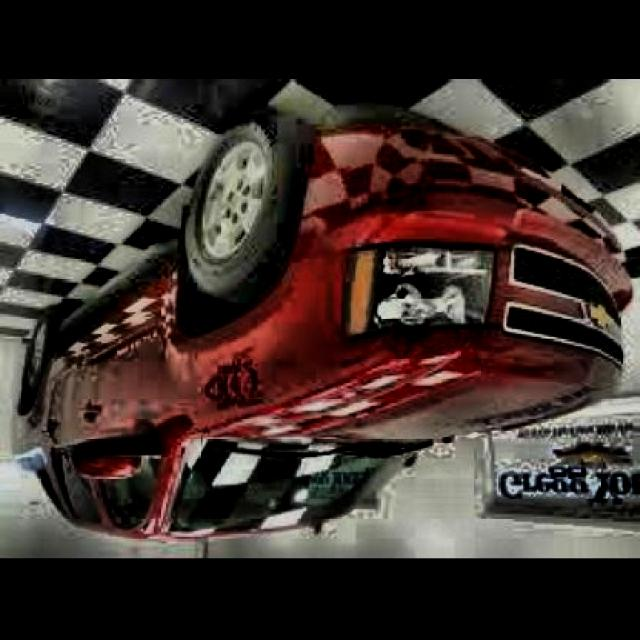maroon: (17, 105, 634, 537)
